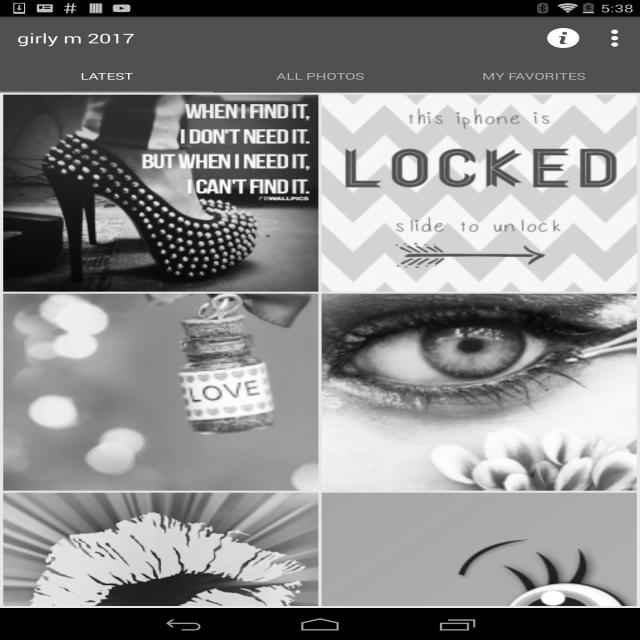ImageView: (322, 95, 636, 292), (4, 294, 318, 491), (322, 294, 636, 491), (3, 492, 318, 640), (321, 492, 636, 640), (213, 91, 427, 93), (426, 91, 640, 92), (0, 91, 213, 92)
TextView: (213, 59, 427, 93), (426, 59, 640, 92), (0, 59, 213, 92), (17, 29, 134, 47), (589, 22, 640, 54), (538, 22, 588, 54)
